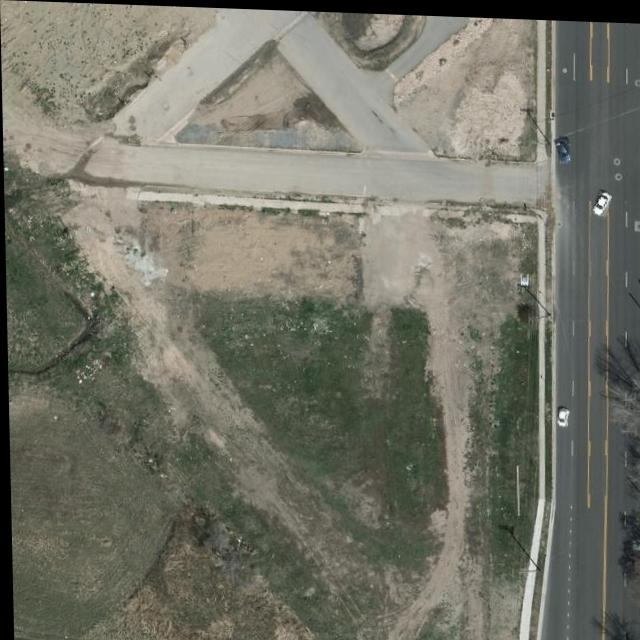vehicle: (592, 186, 611, 214), (555, 133, 571, 161), (556, 403, 568, 424)
